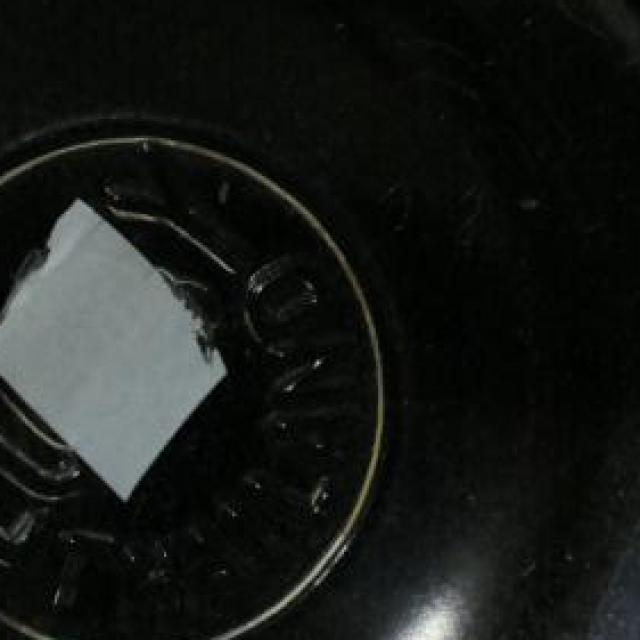Microplastic: (0, 200, 230, 495)
